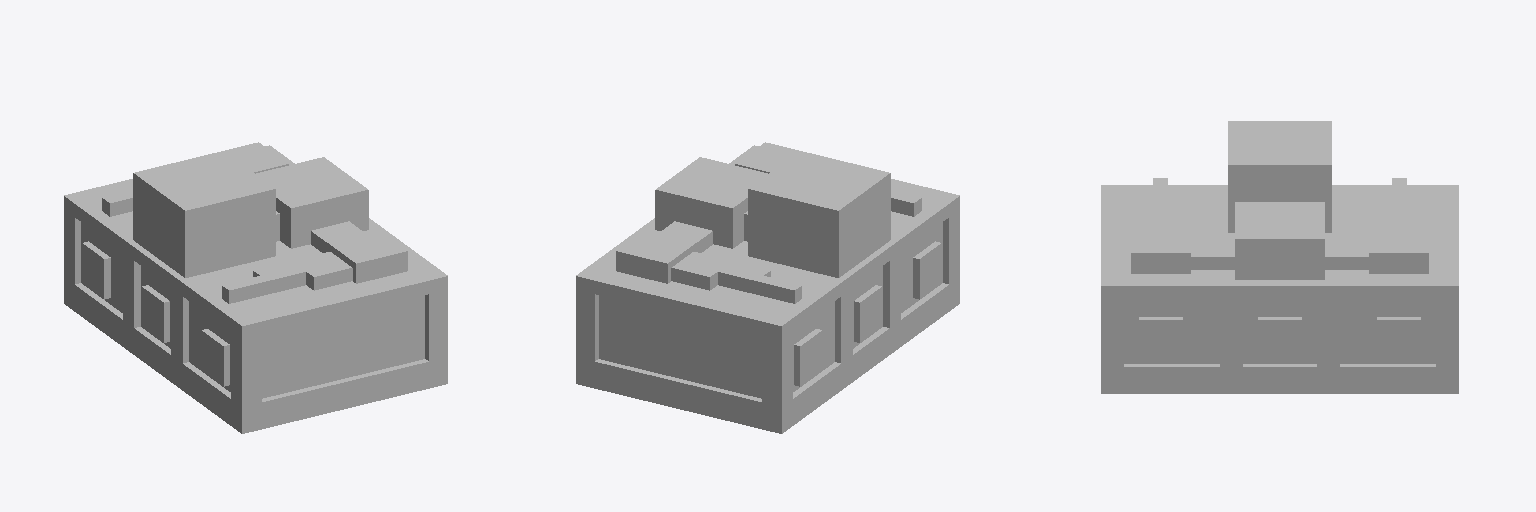
File: astrobodydataprocessor.obj
The picture shows the model from 3 angles: view 1: azimuth 30°, elevation 25°; view 2: azimuth 150°, elevation 25°; view 3: azimuth 270°, elevation 25°; orthographic projection.
Visible parts, largest first — view 1: Cube; view 2: Cube; view 3: Cube.
Boxes of the visible parts, box(x1,y1,x2,y2) form: Cube: box(64, 142, 447, 433); Cube: box(576, 142, 959, 433); Cube: box(1101, 121, 1458, 393).
Size of the model in its own units: 2 by 1.62 by 3.